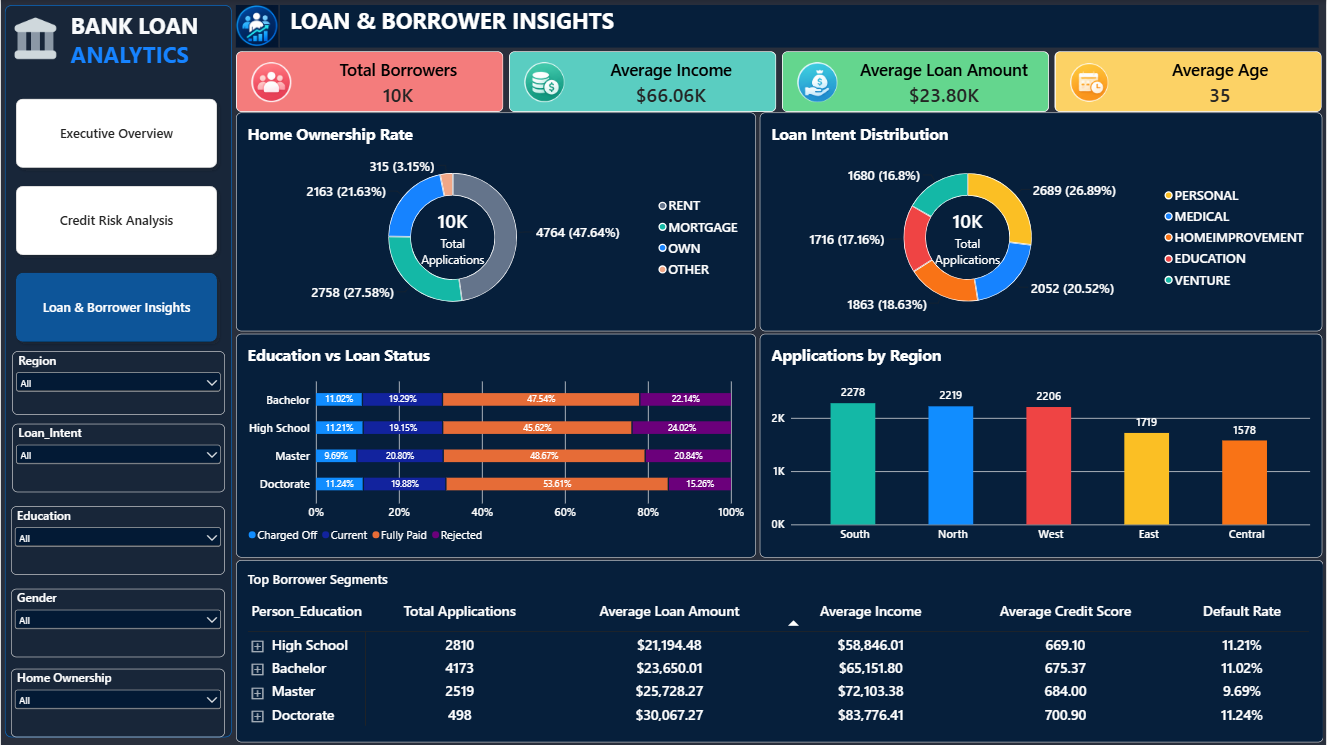

What the dashboard file says about the page in this screenshot:
{"tool":"powerbi","page":{"name":"Loan & Borrower Insights","canvas":[1920,1080],"ordinal":2},"visuals":[{"type":"donutChart","title":"Home Ownership Rate","fields":{"Category":["Bank_Loan_Data.Person_Home_Ownership"],"Y":["Bank_Loan_Data.Total Applications"]},"box":[340.2,162.9,752.8,316.7],"z":0},{"type":"clusteredColumnChart","title":"Applications by Region","fields":{"Y":["Bank_Loan_Data.Total Applications"],"Category":["Bank_Loan_Data.Region"]},"box":[1098.5,483.2,814.3,323.9],"z":1000},{"type":"donutChart","title":"Loan Intent Distribution","fields":{"Category":["Bank_Loan_Data.Loan_Intent"],"Y":["Bank_Loan_Data.Total Applications"]},"box":[1098.5,162.9,814.3,316.7],"z":2000},{"type":"hundredPercentStackedBarChart","title":"Education vs Loan Status","fields":{"Category":["Bank_Loan_Data.Person_Education"],"Y":["Bank_Loan_Data.Total Applications"],"Series":["Bank_Loan_Data.Loan_Status"]},"box":[340.2,483.2,752.8,323.9],"z":3000},{"type":"textbox","box":[403.6,7.2,1503.8,61.5],"z":4000},{"type":"cardVisual","fields":{"Data":["Bank_Loan_Data.Total Borrowers","Bank_Loan_Data.Average Income","Bank_Loan_Data.Average Loan Amount","Bank_Loan_Data.Average Age"]},"box":[340.2,74.2,1574.4,88.7],"z":5000},{"type":"pivotTable","title":"Top Borrower Segments","fields":{"Rows":["Bank_Loan_Data.Person_Education","Bank_Loan_Data.Person_Home_Ownership"],"Values":["Bank_Loan_Data.Total Applications","Bank_Loan_Data.Average Loan Amount","Bank_Loan_Data.Average Income","Bank_Loan_Data.Average Credit Score","Bank_Loan_Data.Default Rate"]},"box":[340.2,810.7,1574.4,264.2],"z":6000},{"type":"shape","box":[5.4,7.2,329,1060.5],"z":7000},{"type":"pageNavigator","box":[12.7,133.9,309.5,372.8],"z":8000},{"type":"slicer","fields":{"Values":["Bank_Loan_Data.Region"]},"box":[16.3,508.5,307.6,92.3],"z":9000},{"type":"slicer","fields":{"Values":["Bank_Loan_Data.Loan_Intent"]},"box":[16.3,613.5,307.6,99.5],"z":10000},{"type":"textbox","box":[83.2,14.5,240.7,119.4],"z":11000},{"type":"slicer","fields":{"Values":["Bank_Loan_Data.Person_Education"]},"box":[14.5,732.9,309.5,99.5],"z":12000},{"type":"slicer","fields":{"Values":["Bank_Loan_Data.Person_Gender"]},"box":[14.5,852.4,309.5,99.5],"z":13000},{"type":"slicer","fields":{"Values":["Bank_Loan_Data.Person_Home_Ownership"]},"box":[14.5,968.2,309.5,99.5],"z":14000},{"type":"image","box":[16.3,9,67,92.3],"z":15000},{"type":"image","box":[338.4,7.2,65.1,61.5],"z":16000}]}

Visuals, with their boxes in screenshot pixels (x1, y1, x2, y2), scaled from the page's 1920x1080 canvas onto the 1327x745 screenshot:
"Home Ownership Rate" donutChart: <bbox>235, 112, 755, 331</bbox>
"Applications by Region" clusteredColumnChart: <bbox>759, 333, 1322, 557</bbox>
"Loan Intent Distribution" donutChart: <bbox>759, 112, 1322, 331</bbox>
"Education vs Loan Status" hundredPercentStackedBarChart: <bbox>235, 333, 755, 557</bbox>
textbox: <bbox>279, 5, 1318, 47</bbox>
cardVisual - Bank_Loan_Data.Total Borrowers x Bank_Loan_Data.Average Income: <bbox>235, 51, 1323, 112</bbox>
"Top Borrower Segments" pivotTable: <bbox>235, 559, 1323, 741</bbox>
shape: <bbox>4, 5, 231, 737</bbox>
pageNavigator: <bbox>9, 92, 223, 350</bbox>
slicer - Bank_Loan_Data.Region: <bbox>11, 351, 224, 414</bbox>
slicer - Bank_Loan_Data.Loan_Intent: <bbox>11, 423, 224, 492</bbox>
textbox: <bbox>58, 10, 224, 92</bbox>
slicer - Bank_Loan_Data.Person_Education: <bbox>10, 506, 224, 574</bbox>
slicer - Bank_Loan_Data.Person_Gender: <bbox>10, 588, 224, 657</bbox>
slicer - Bank_Loan_Data.Person_Home_Ownership: <bbox>10, 668, 224, 737</bbox>
image: <bbox>11, 6, 58, 70</bbox>
image: <bbox>234, 5, 279, 47</bbox>
